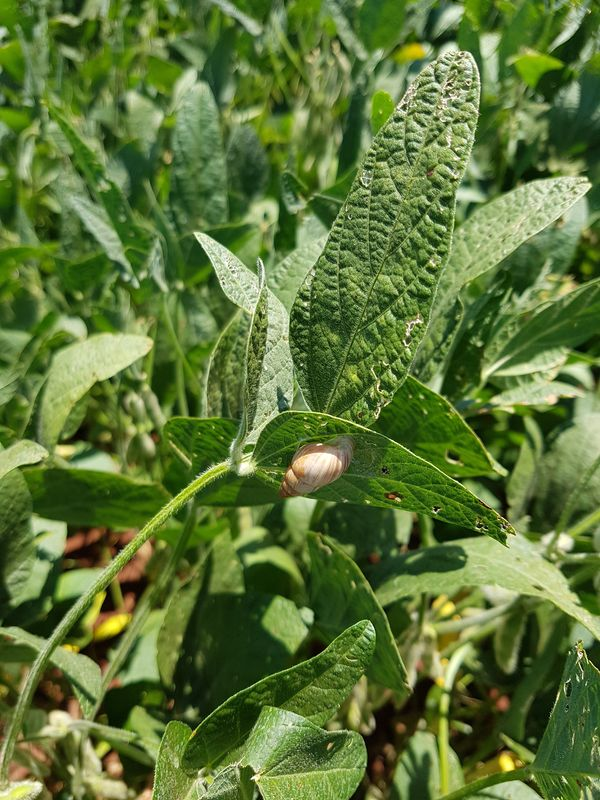Gastropoda: (267, 425, 366, 507)
